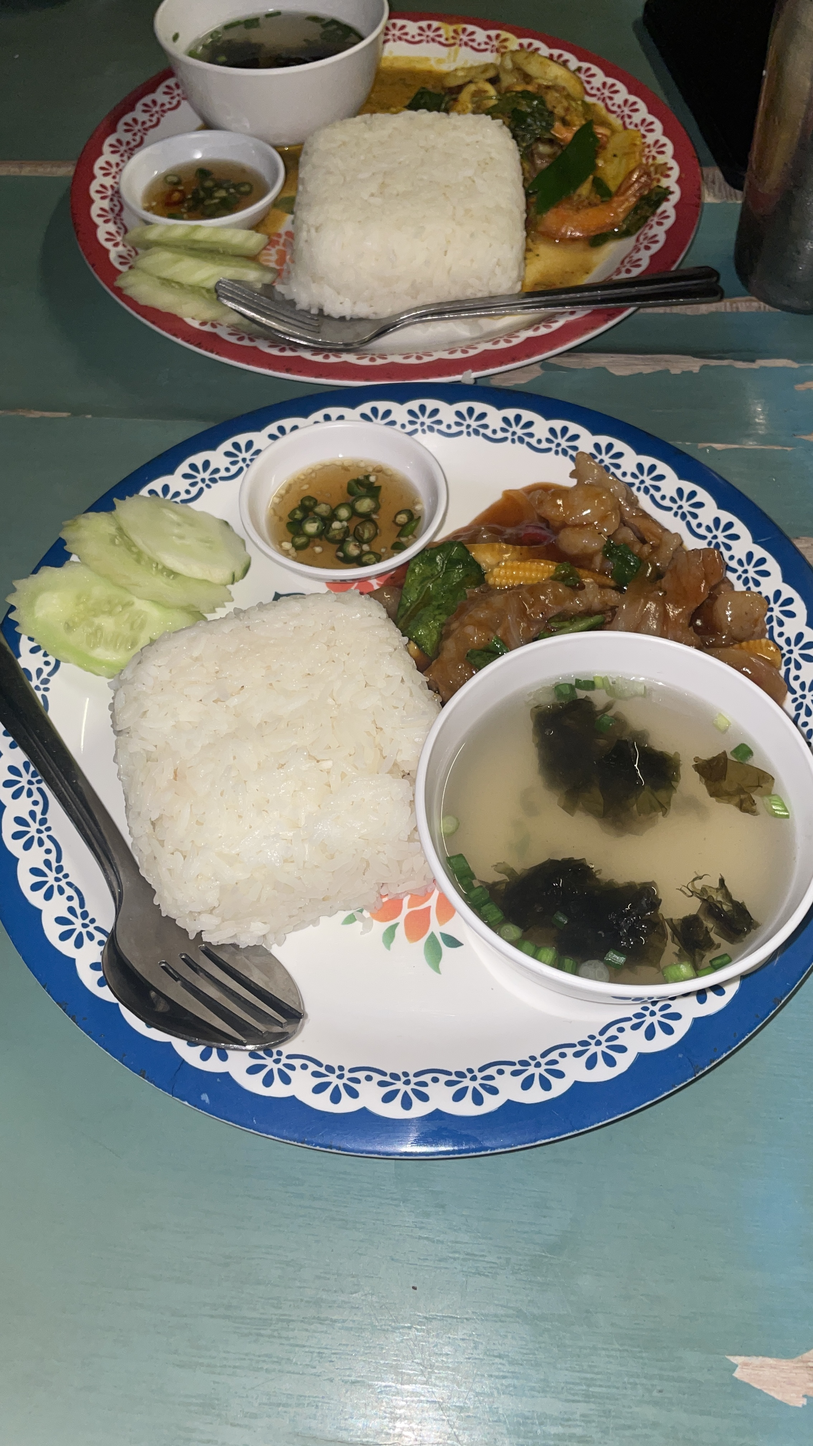buah_sayur_lainnya: (57, 479, 222, 646), (136, 222, 272, 332)
makanan_berpati: (145, 647, 421, 923), (324, 143, 518, 287)
